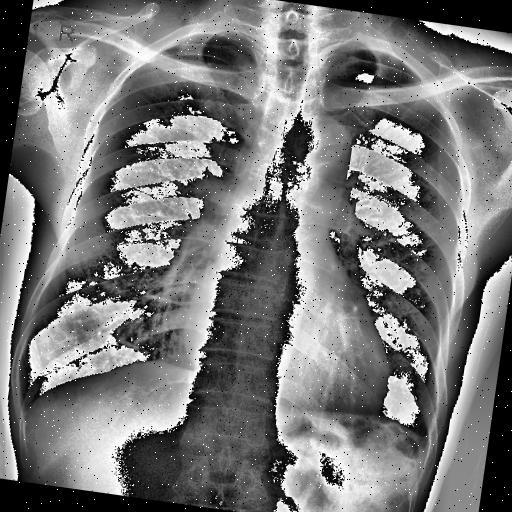0- Aortic enlargement: (284, 115, 354, 184)
10- Pleural effusion: (406, 426, 434, 454)
11- Pleural thickening: (406, 426, 434, 454), (414, 429, 436, 457)
